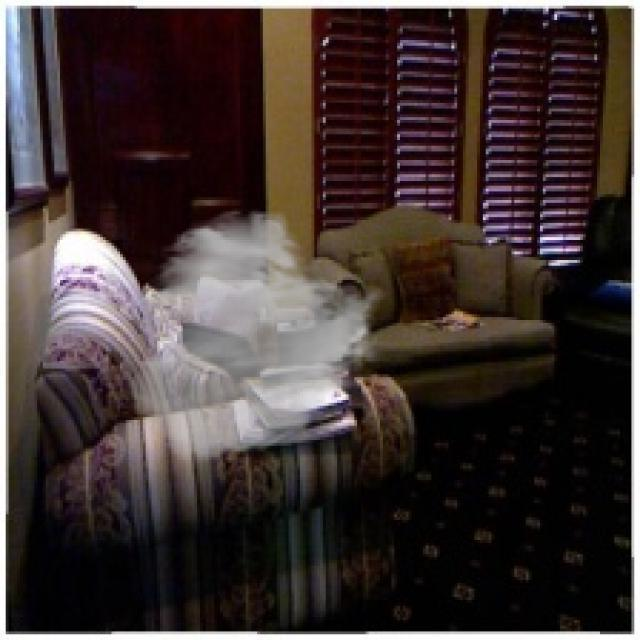Smoke: (125, 206, 388, 463)
